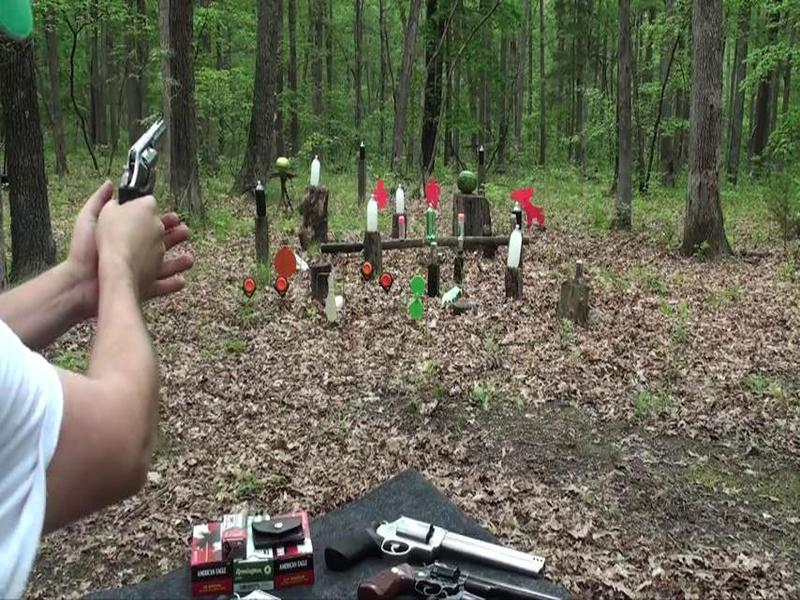Revolver: (108, 108, 184, 240)
